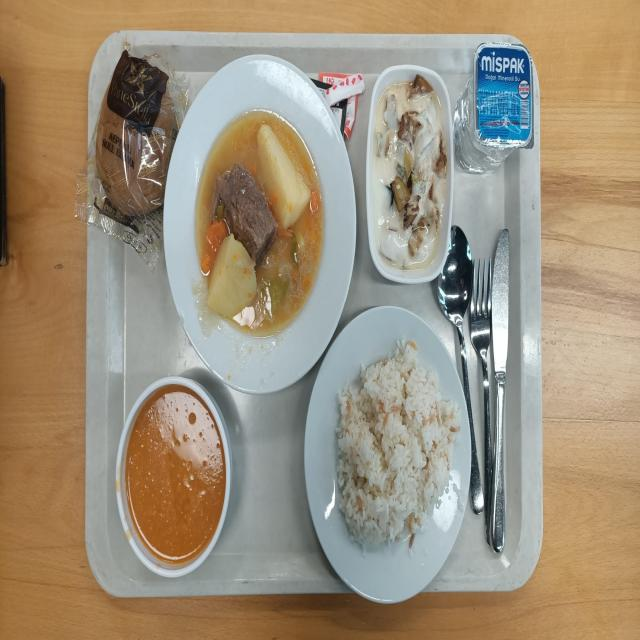ana_yemek: (164, 52, 342, 395), (309, 304, 445, 603)
corba: (115, 374, 234, 574)
yan_yemek: (365, 67, 451, 285)
